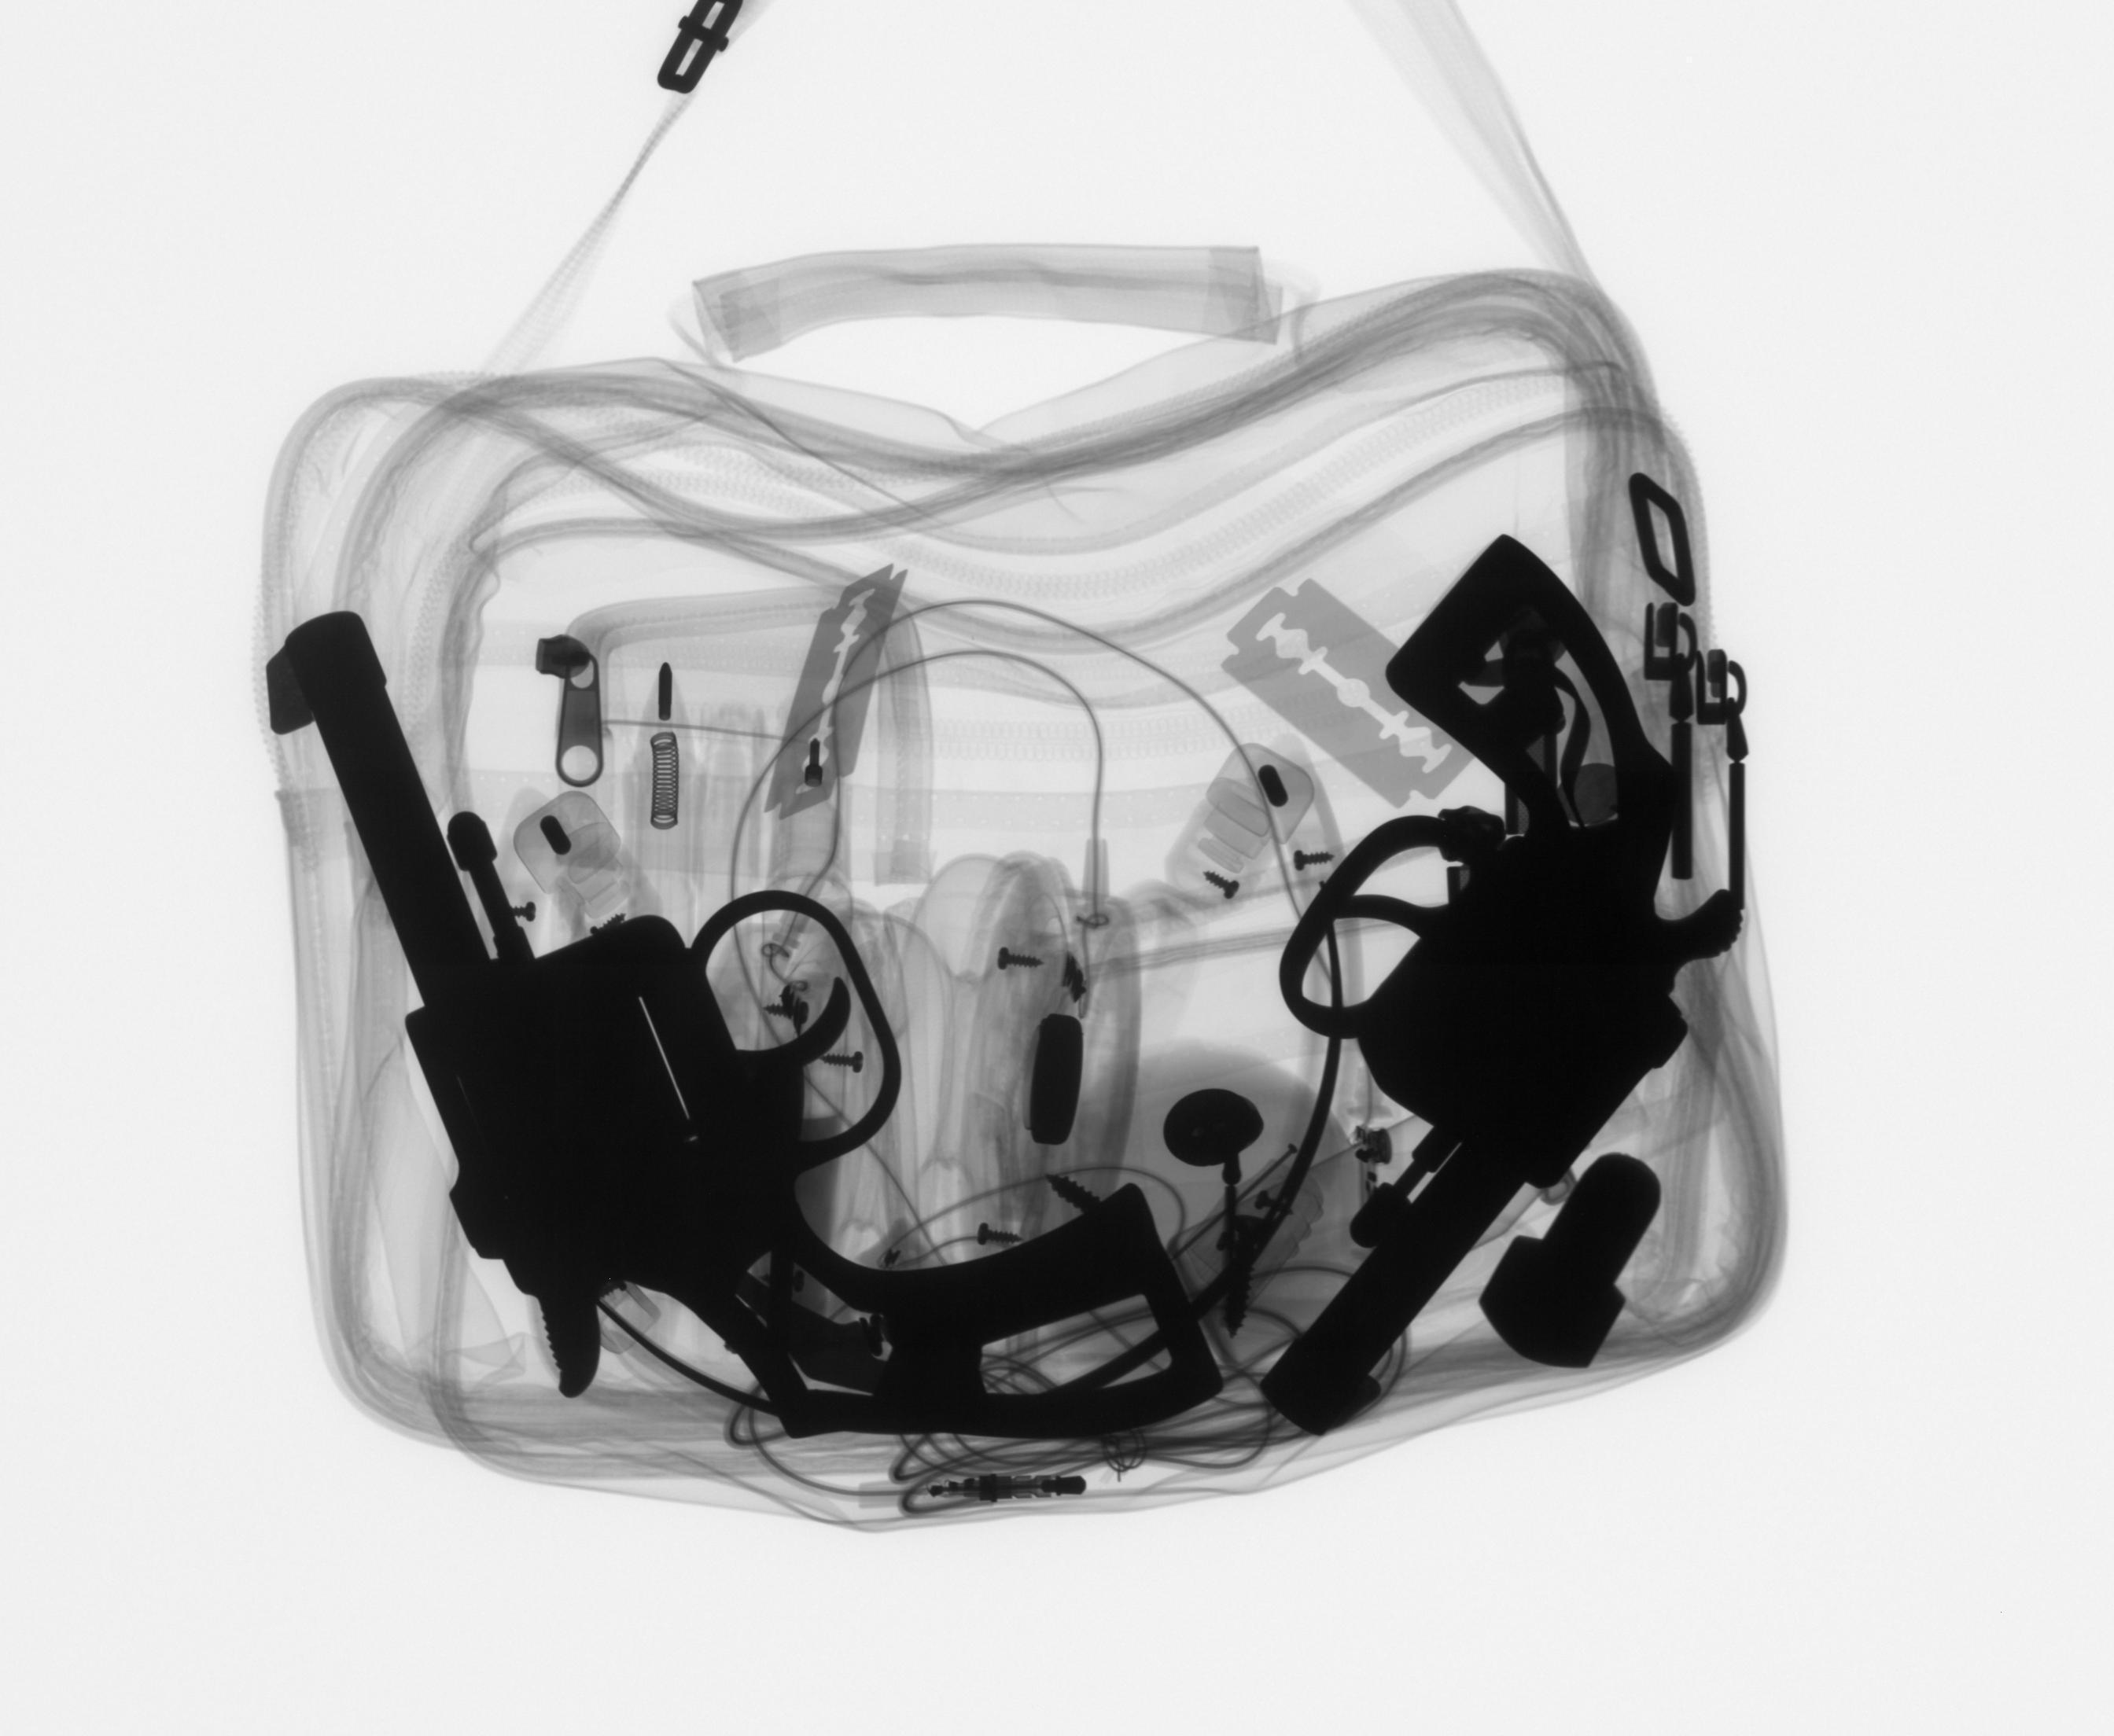Handgun: (242, 602, 1231, 1443), (1255, 506, 1729, 1485)
RazorBlade: (1213, 565, 1464, 797), (755, 558, 906, 834)
